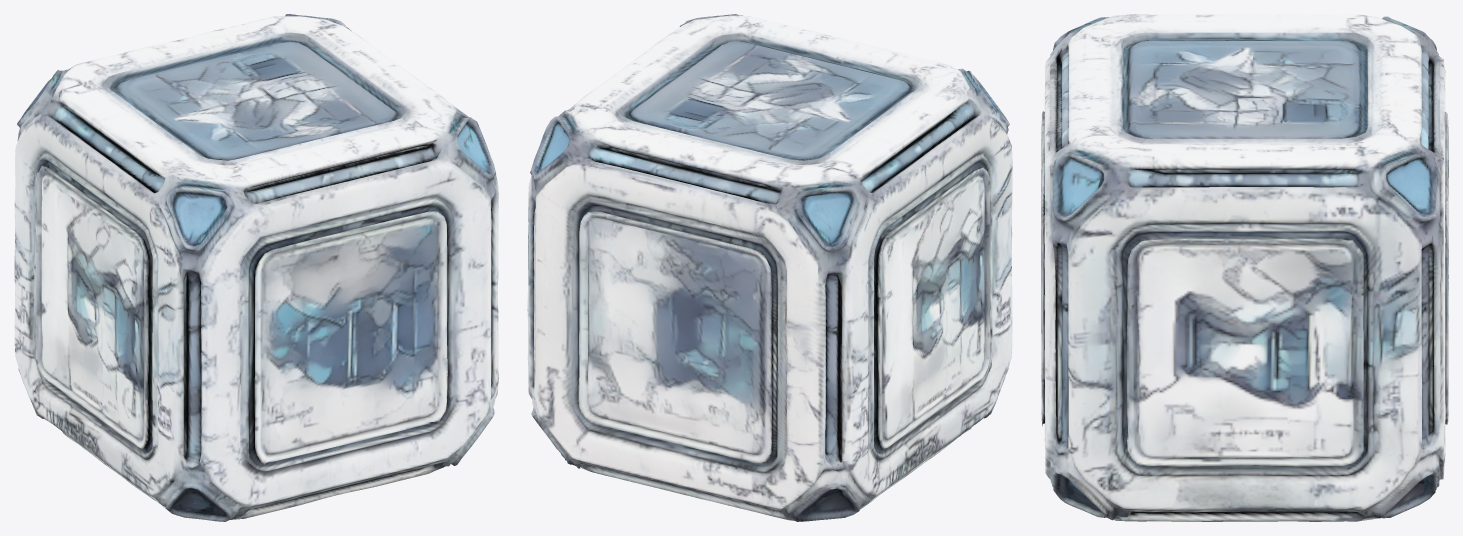
File: crate_box.fbx
The picture shows the model from 3 angles, left to right: view 1: azimuth 30°, elevation 25°; view 2: azimuth 150°, elevation 25°; view 3: azimuth 270°, elevation 25°; orthographic projection. The views are drawn at different scales.
Parts seen in each view (by area): view 1: model_LOD0; view 2: model_LOD0; view 3: model_LOD0.
Boxes of the visible parts, box(x1,y1,x2,y2) form: model_LOD0: box(14, 14, 498, 521); model_LOD0: box(527, 14, 1012, 521); model_LOD0: box(1041, 14, 1448, 521).
Size of what is drawn, in the model's own units: 190 by 187 by 190.
